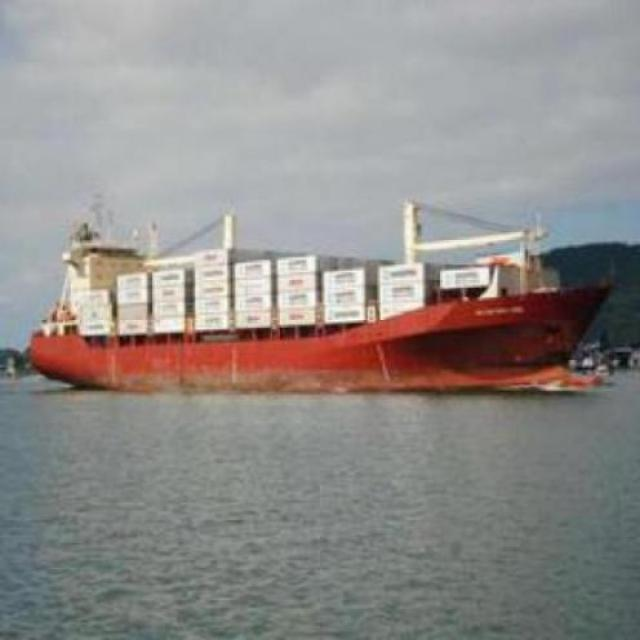boat: (17, 235, 610, 396)
